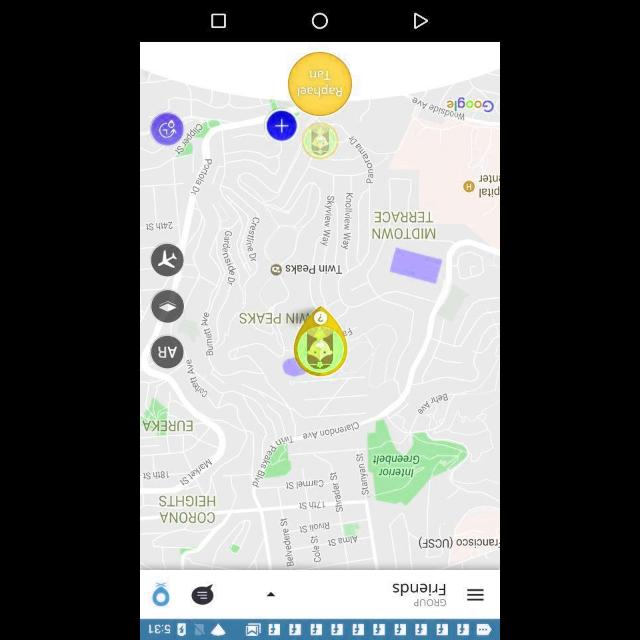icon: (150, 288, 184, 326), (150, 334, 184, 370), (152, 244, 184, 276), (190, 582, 213, 606), (152, 578, 170, 608), (310, 12, 330, 32), (413, 9, 429, 29), (466, 588, 486, 602), (211, 12, 227, 28), (267, 590, 275, 600)
map: (142, 42, 500, 570)
panel: (142, 2, 498, 42)
text: (392, 582, 446, 596), (412, 600, 446, 606)
toolbar: (141, 570, 499, 618)
uppertaskbar: (141, 620, 499, 640)
